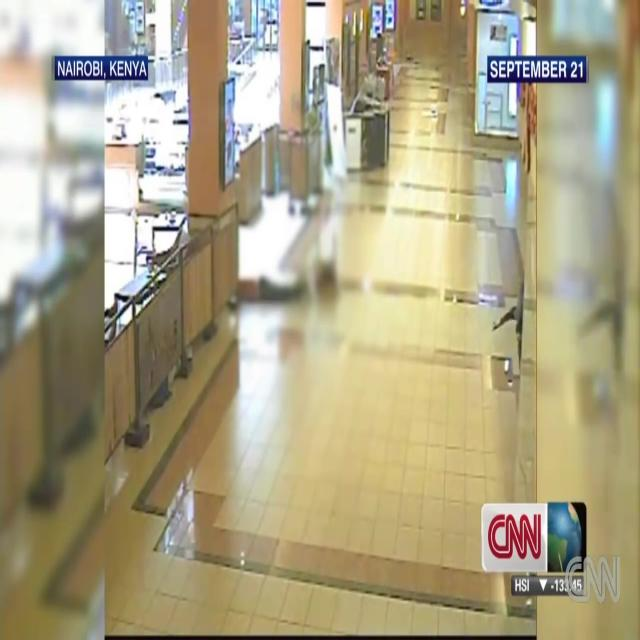Weapon: (479, 290, 534, 355)
